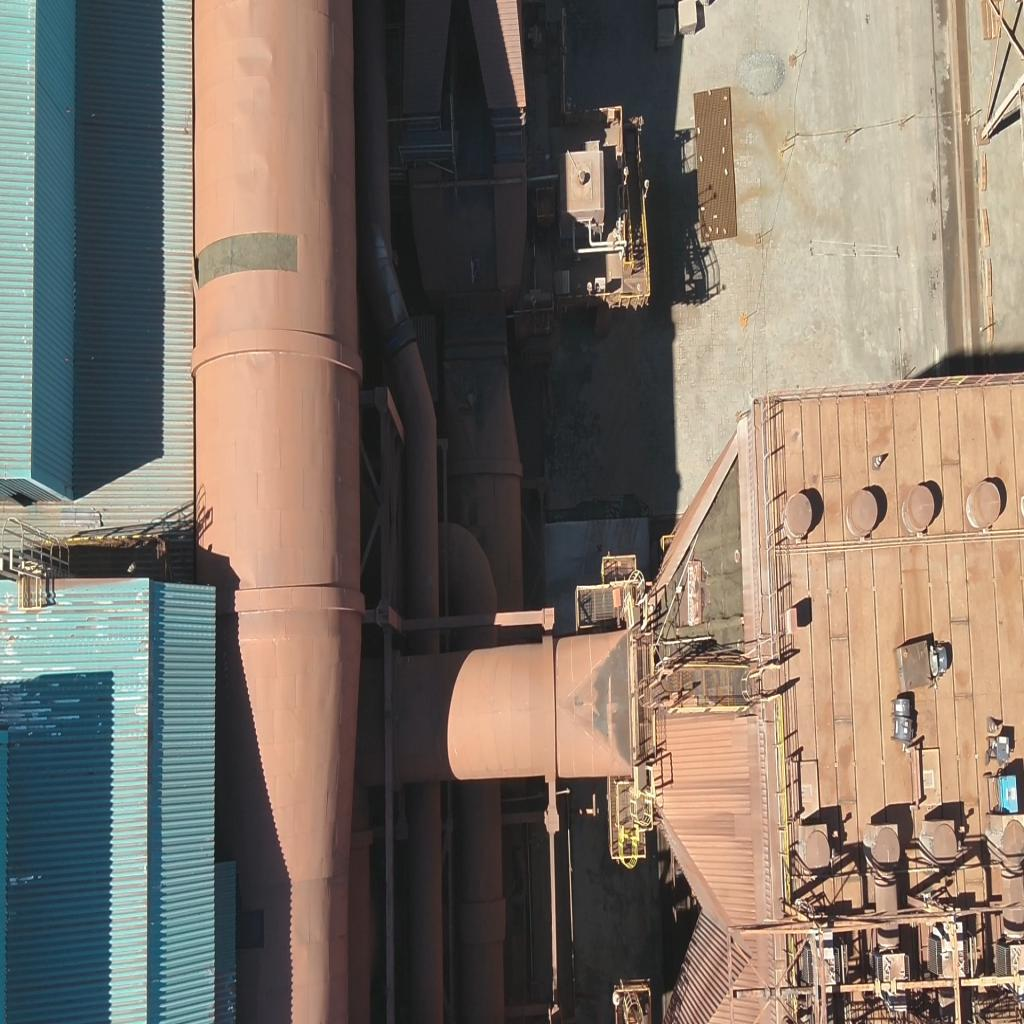Failures: (660, 465, 750, 681), (194, 234, 302, 276)
